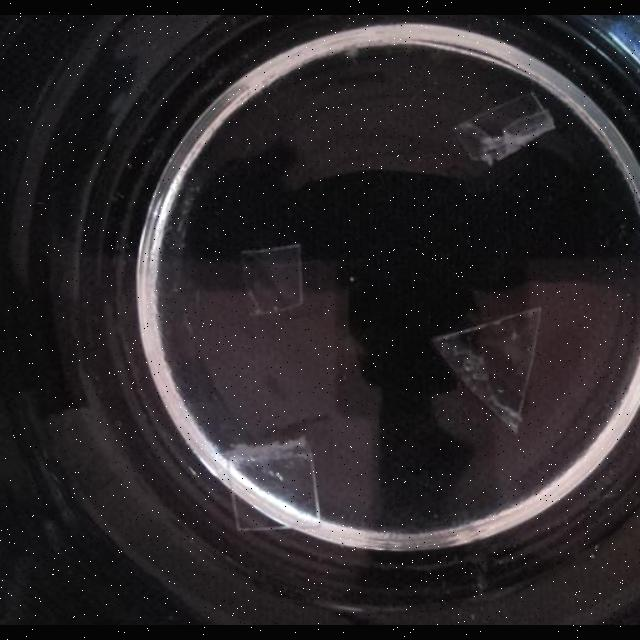Film: (431, 306, 542, 434), (453, 87, 559, 171), (230, 438, 318, 532), (238, 237, 308, 315)
